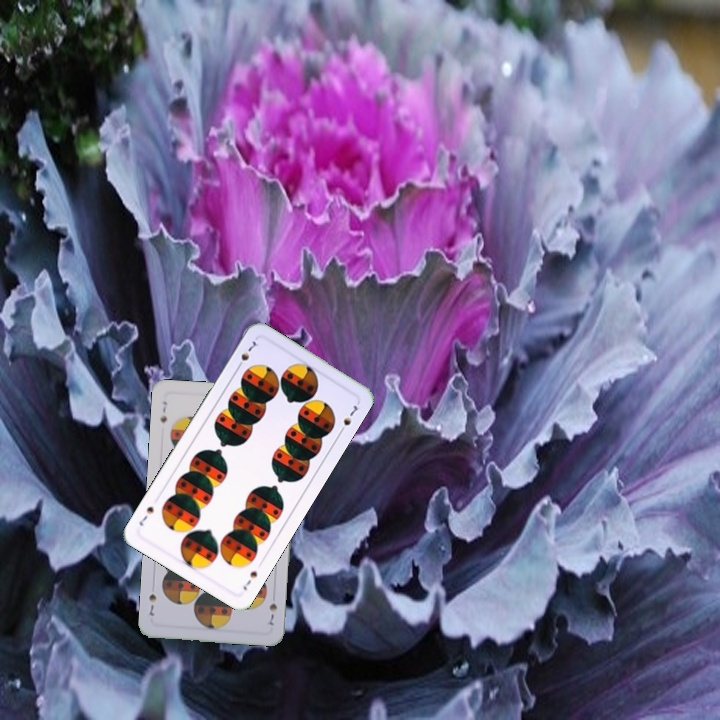S7: (233, 335, 261, 372), (239, 567, 260, 593), (263, 599, 280, 628), (156, 397, 170, 425)
